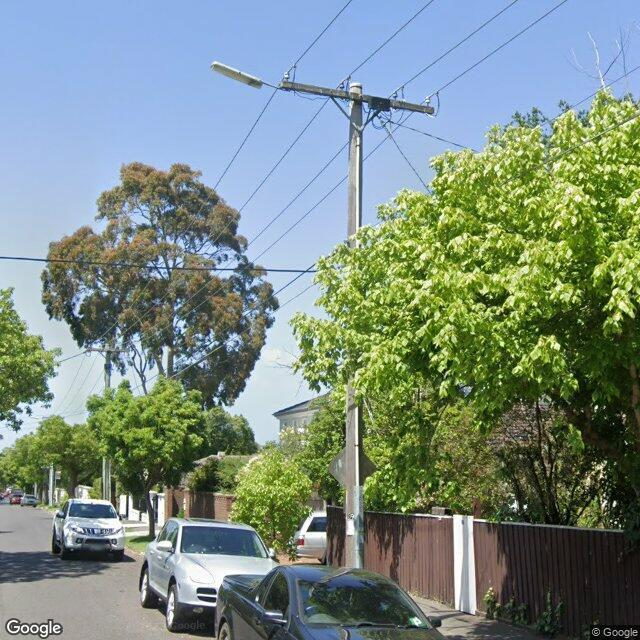crossarm: (280, 63, 440, 132), (85, 348, 130, 356)
streetlight: (210, 61, 280, 91)
timber-pole: (346, 83, 364, 569), (102, 343, 111, 501)
